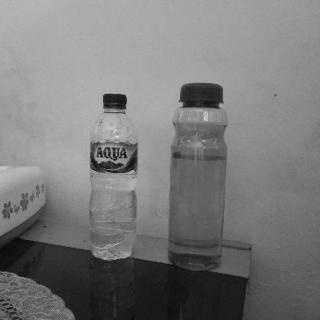plastic_bottles: (168, 82, 230, 273), (85, 90, 141, 262)
